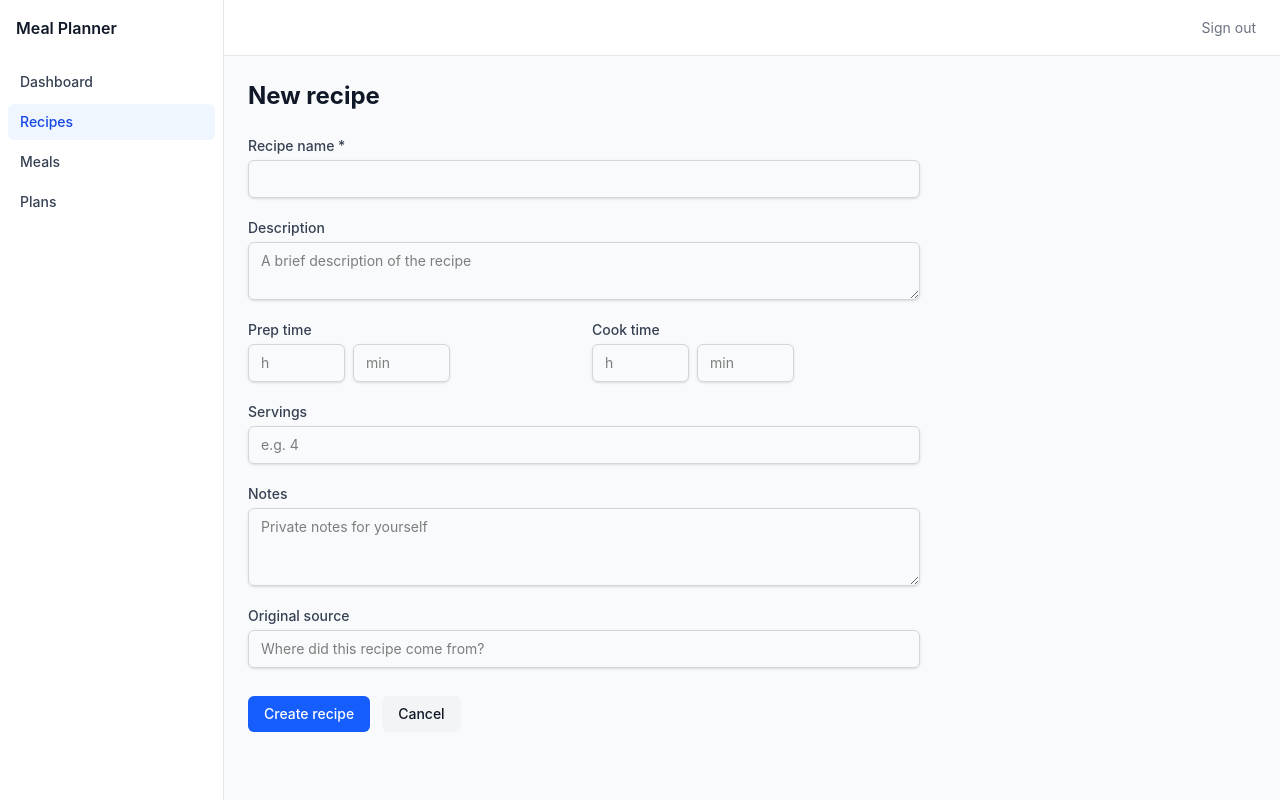
Test case: RecipeFormPage (create) › shows validation error for missing name
Expected: the heading "New recipe" is shown, [248, 80, 380, 112]
Click the button "Create recipe" at (309, 714), box [248, 696, 370, 732]
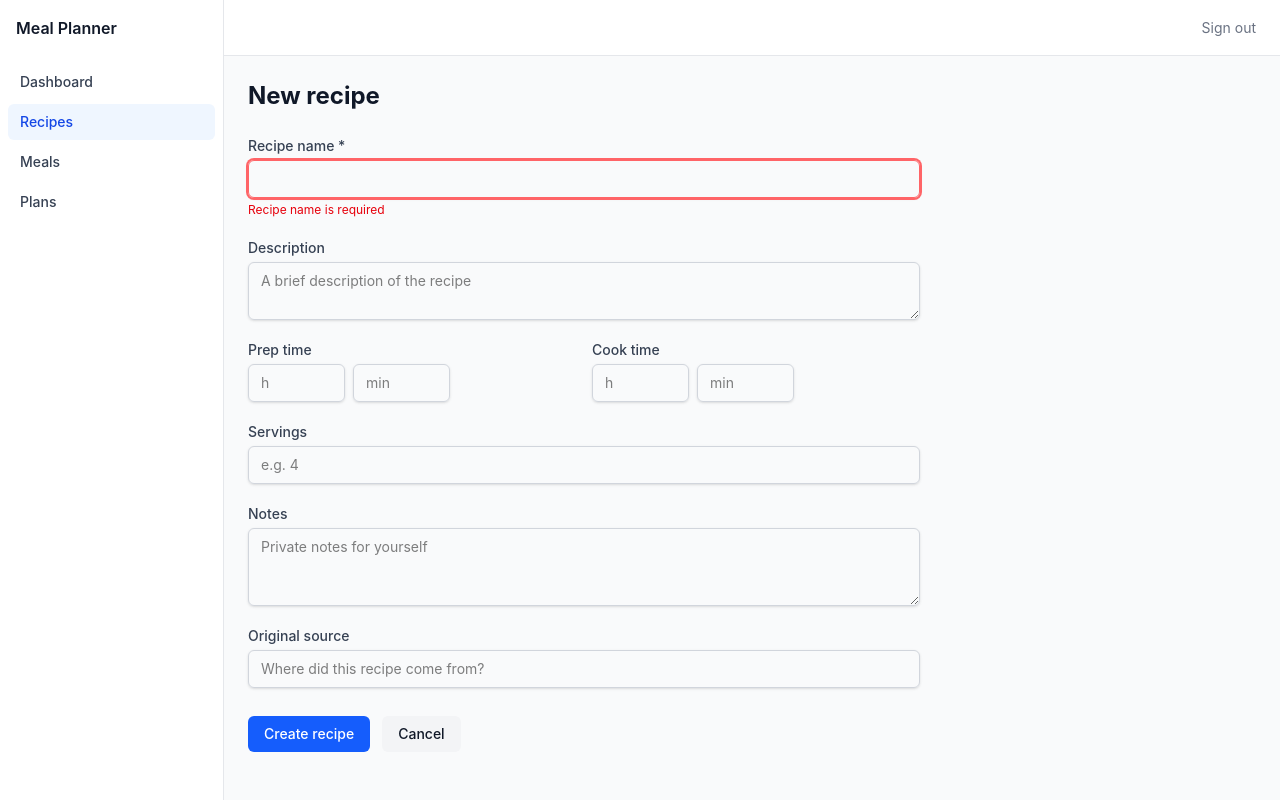
Now the text "Recipe name is required" is shown, box [248, 202, 385, 217]
